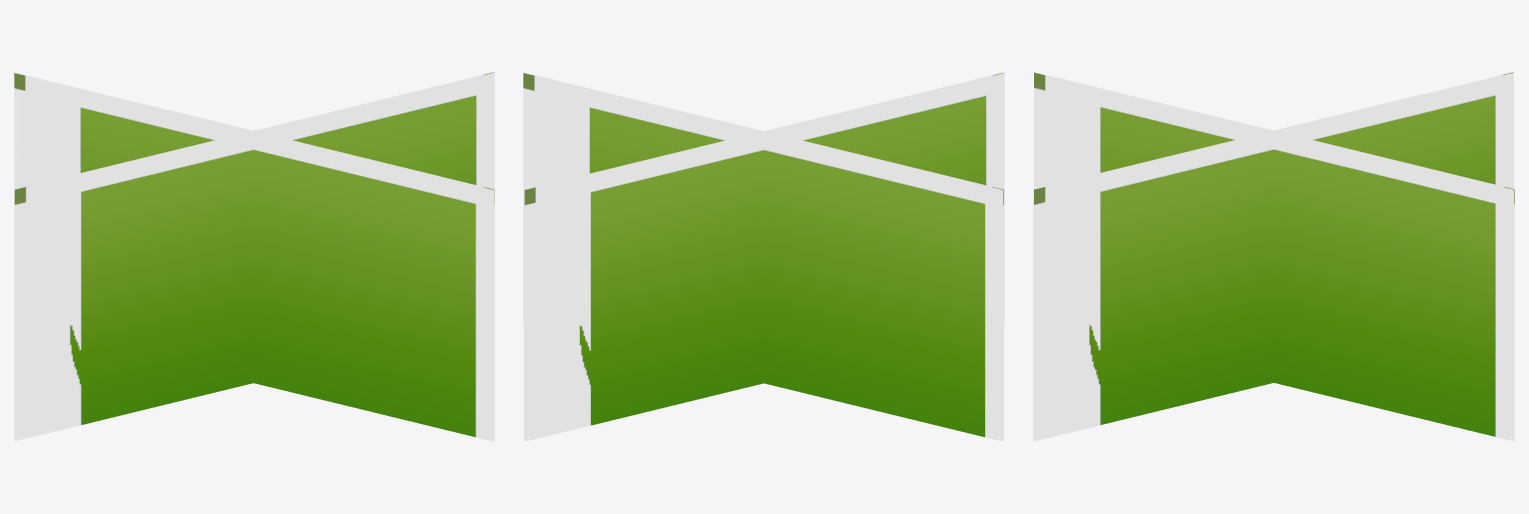
File: Grass_01.glb
3 views of the same model, side by side, from view 1: azimuth 30°, elevation 25°; view 2: azimuth 150°, elevation 25°; view 3: azimuth 270°, elevation 25° (orthographic).
Parts seen in each view (by area): view 1: Grass_01_LOD0; view 2: Grass_01_LOD0; view 3: Grass_01_LOD0.
Boxes of the visible parts, box(x1,y1,x2,y2) form: Grass_01_LOD0: box(14, 72, 494, 441); Grass_01_LOD0: box(523, 72, 1004, 441); Grass_01_LOD0: box(1033, 72, 1514, 441).
Size of what is drawn, in the model's own units: 0.5621 by 0.2817 by 0.4879.
1 material, 1 textured.
